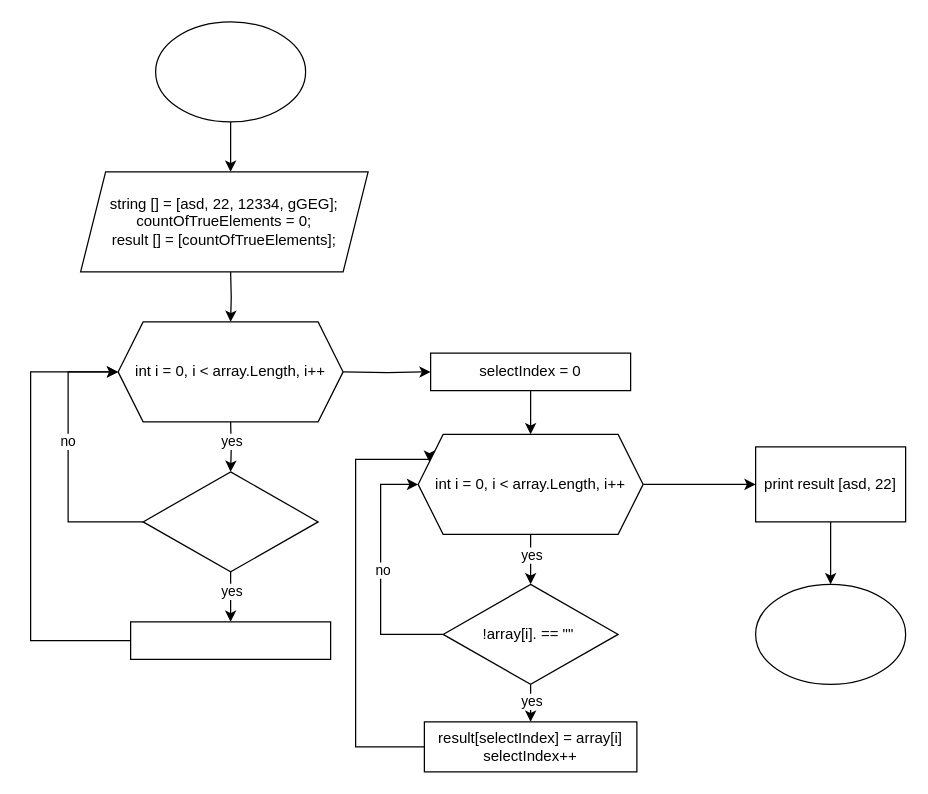
Image size: 928x794. Some labels were removed from this diagram. The box of each missing label's shape, as (x1, y1, x2, y2) in pixels:
array[i].Length <= 3: (142, 471, 318, 572)
countOfTrueElements++: (129, 621, 331, 659)
End: (754, 583, 906, 684)
Start: (154, 21, 306, 122)
